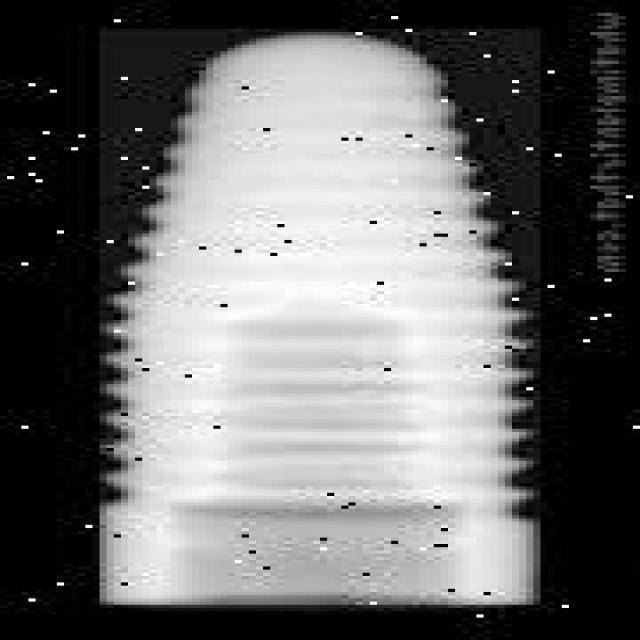OCO Biomedical Implant: (100, 29, 540, 605)
